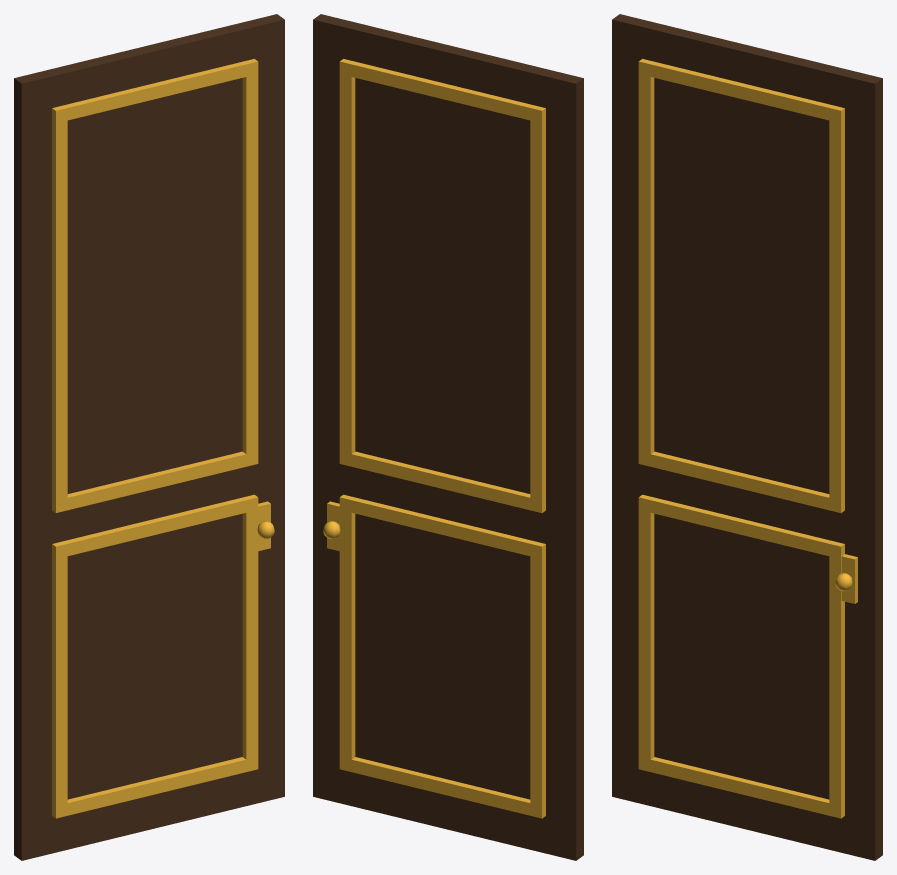
File: SM_Door_academy_wood_100x280.fbx
3 views of the same model, side by side, from view 1: azimuth 30°, elevation 25°; view 2: azimuth 150°, elevation 25°; view 3: azimuth 330°, elevation 25° (orthographic).
Parts seen in each view (by area): view 1: SM_Door_academy_wood_100x280; view 2: SM_Door_academy_wood_100x280; view 3: SM_Door_academy_wood_100x280.
Boxes of the visible parts, left/top/right/bottom form: SM_Door_academy_wood_100x280: left=14, top=14, right=284, bottom=860; SM_Door_academy_wood_100x280: left=313, top=14, right=583, bottom=860; SM_Door_academy_wood_100x280: left=612, top=14, right=882, bottom=860.
Size of the model in its own units: 0.988 by 2.79 by 0.19.
